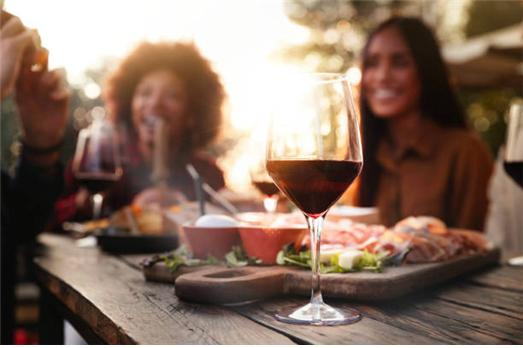alcohol: (264, 73, 364, 324), (69, 123, 125, 244)
